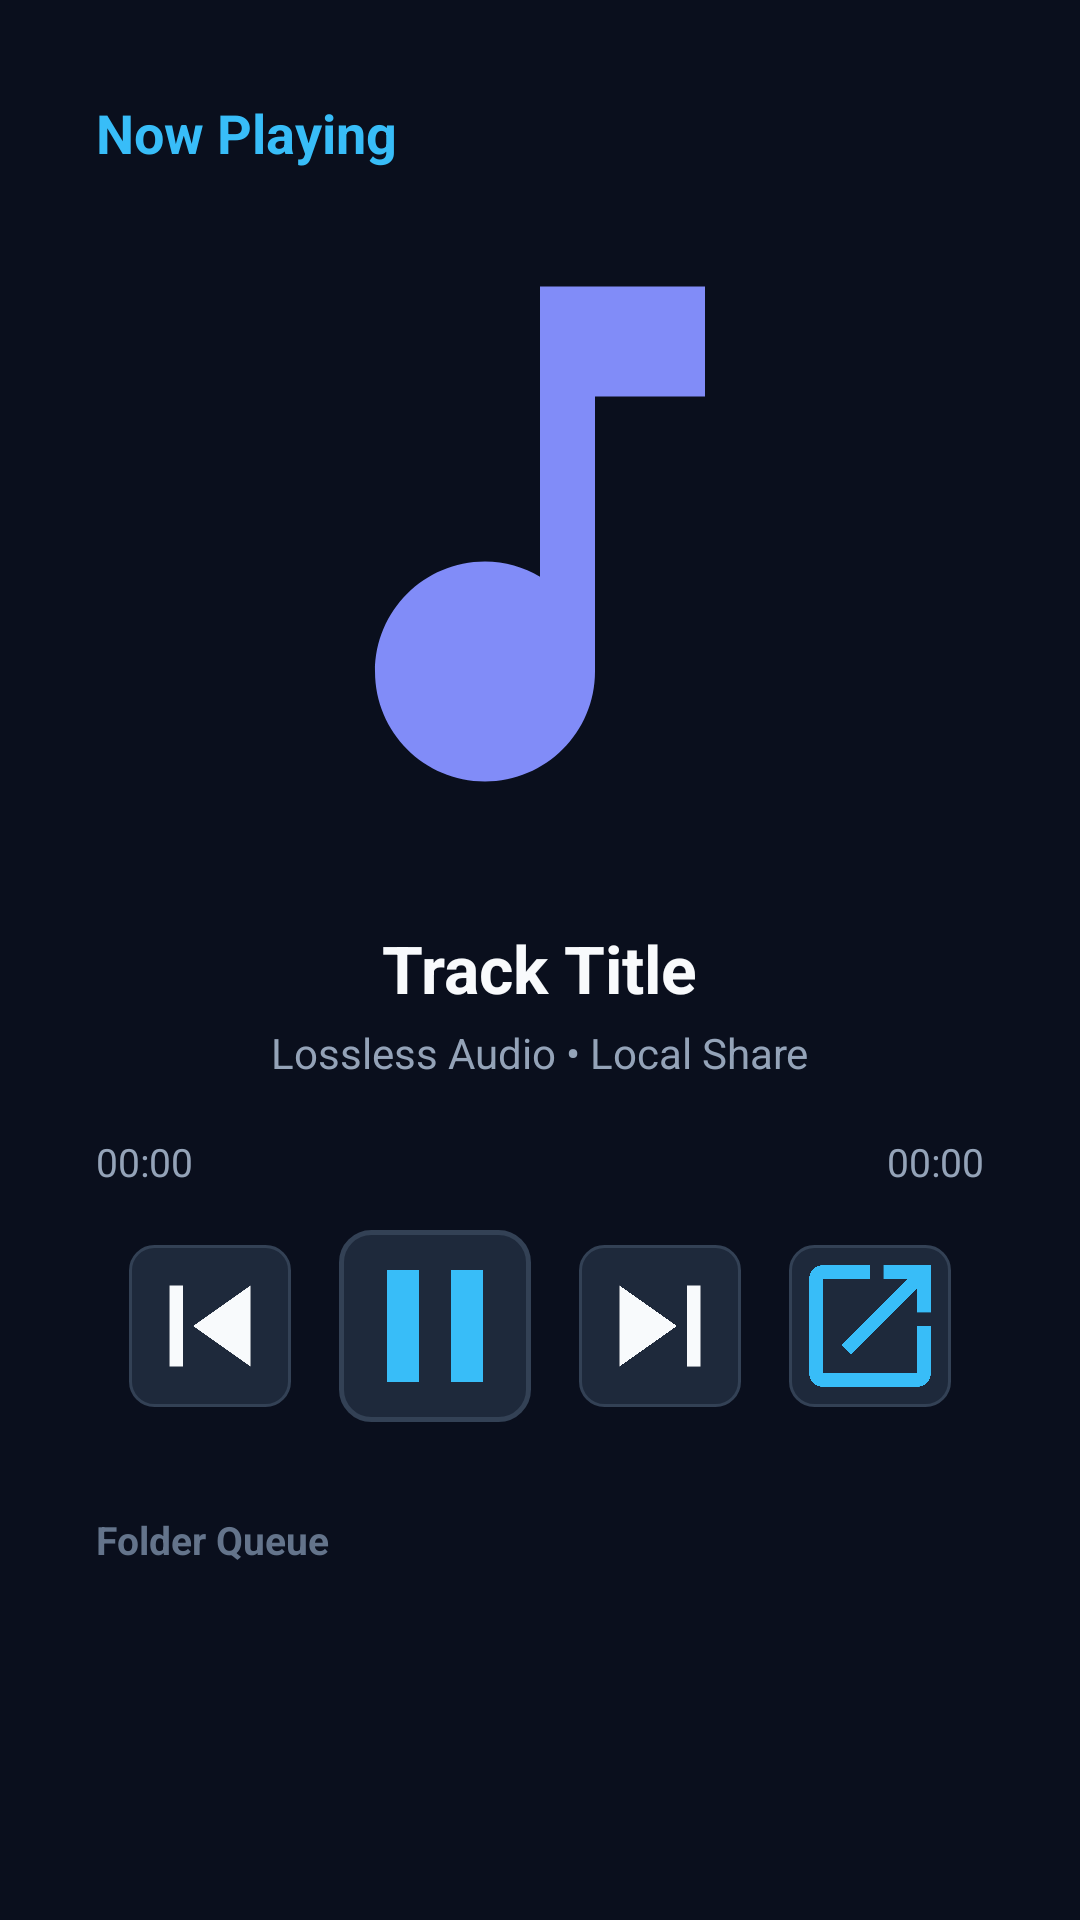

Where to tap for icons on this 1080px×1920px app screen, as (x,y):
Next Track: (660,1326)
Open in External Player: (870,1326)
Play or Pause: (435,1326)
Previous Track: (210,1326)
